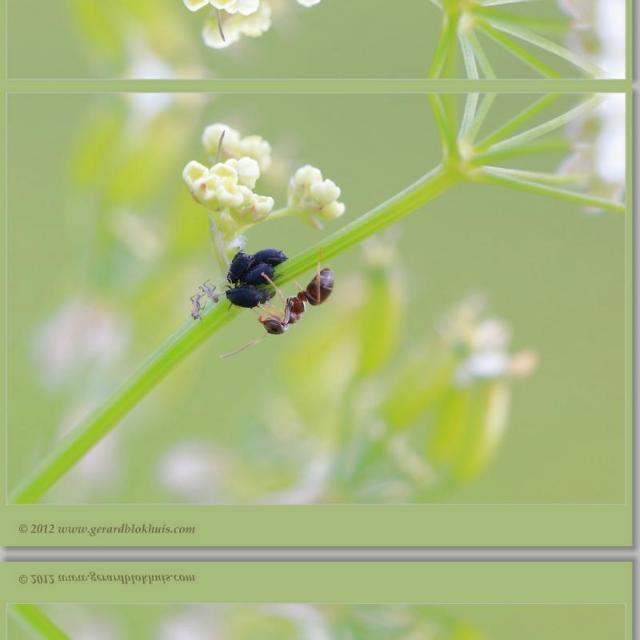Lasius: (249, 271, 337, 333)
